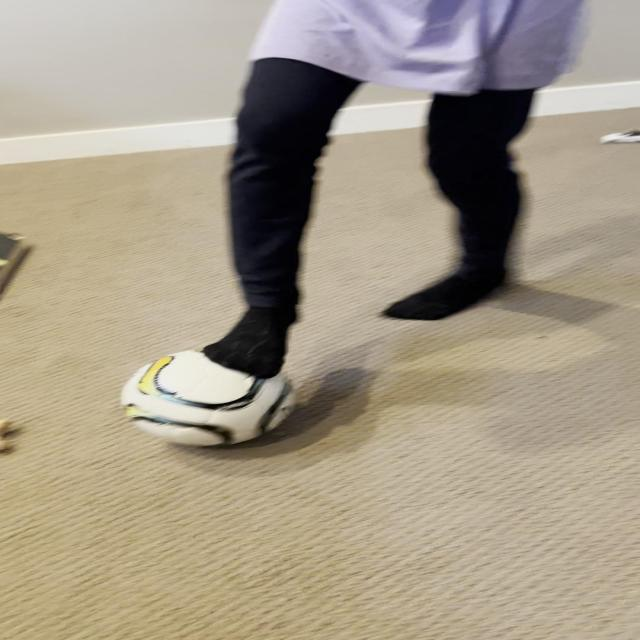Soccer Ball: (119, 349, 298, 449)
